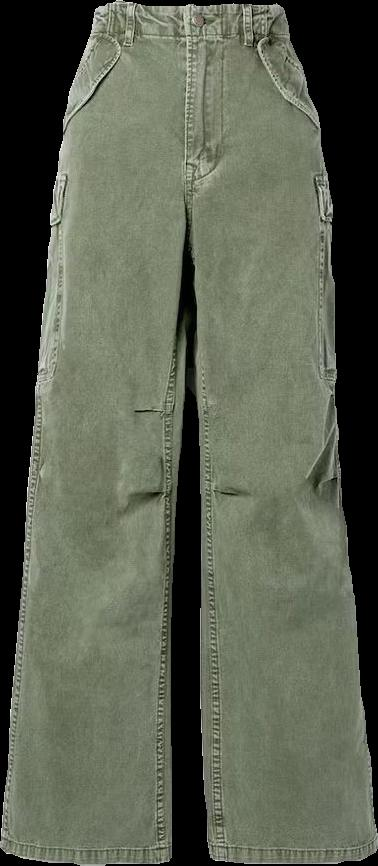Hemline: (0, 841, 174, 865), (210, 844, 377, 865)
Pantleg: (186, 3, 377, 864), (0, 0, 190, 865)
Waistline: (90, 25, 287, 50), (96, 0, 277, 15)
